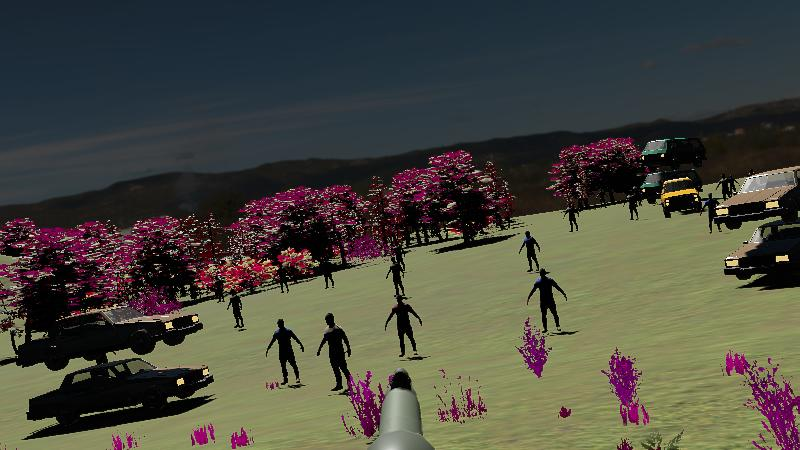car: (26, 355, 216, 430), (40, 302, 206, 366), (716, 164, 800, 230), (723, 218, 800, 284), (641, 136, 706, 173), (661, 175, 702, 219)
